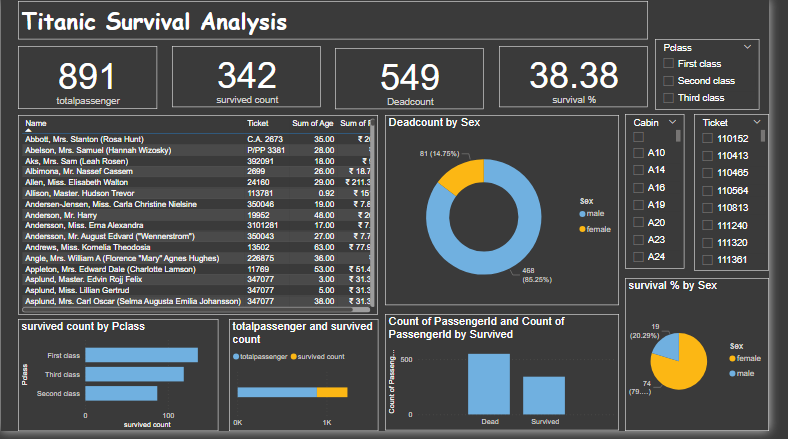

This screenshot's page, from the dashboard's own definition file:
{"tool":"powerbi","page":{"name":"Page 1","canvas":[1280,720],"ordinal":0},"visuals":[{"type":"card","fields":{"Values":["Titanic-Dataset.totalpassenger"]},"box":[28.3,78.3,231.7,105],"z":0},{"type":"card","fields":{"Values":["Titanic-Dataset.survived count"]},"box":[284.4,78.3,248.3,101.7],"z":1000},{"type":"card","fields":{"Values":["Titanic-Dataset.survival %"]},"box":[830,78.3,248.3,101.7],"z":2000},{"type":"card","fields":{"Values":["Titanic-Dataset.Deadcount"]},"box":[557.2,81.7,248.3,101.7],"z":3000},{"type":"pieChart","fields":{"Y":["Titanic-Dataset.survival %"],"Series":["Titanic-Dataset.Sex"]},"box":[1039.7,465.1,240.5,254.9],"z":4000},{"type":"tableEx","fields":{"Values":["Titanic-Dataset.Name","Titanic-Dataset.Ticket","Titanic-Dataset.Age","Titanic-Dataset.Fare"]},"box":[28.8,193,600.5,332.6],"z":5000},{"type":"slicer","fields":{"Values":["Titanic-Dataset.Pclass"]},"box":[1090.1,66.2,174.2,118.1],"z":6000},{"type":"slicer","fields":{"Values":["Titanic-Dataset.Cabin"]},"box":[1039.7,191.5,99.4,257.8],"z":7000},{"type":"slicer","fields":{"Values":["Titanic-Dataset.Ticket"]},"box":[1154.9,191.5,125.3,260.6],"z":8000},{"type":"barChart","fields":{"Category":["Titanic-Dataset.Pclass"],"Y":["Titanic-Dataset.survived count"]},"box":[28.8,532.8,334.1,187.2],"z":8001},{"type":"barChart","fields":{"Y":["Titanic-Dataset.totalpassenger","Titanic-Dataset.survived count"]},"box":[380.2,532.8,249.1,187.2],"z":8002},{"type":"donutChart","fields":{"Y":["Titanic-Dataset.Deadcount"],"Category":["Titanic-Dataset.Sex"]},"box":[639.4,193,390.2,316.8],"z":8003},{"type":"columnChart","fields":{"Y":["Titanic-Dataset.PassengerId","Titanic-Dataset.PassengerId"],"Category":["Titanic-Dataset.Survived"]},"box":[639.4,525.6,390.2,194.4],"z":8004},{"type":"textbox","box":[28.3,2.8,1050.2,63.8],"z":8005}]}

Visuals, with their boxes in screenshot pixels (x1, y1, x2, y2), scaled from the page's 1280x720 canvas onto the 788x439 screenshot:
card - Titanic-Dataset.totalpassenger: 17/48/160/112
card - Titanic-Dataset.survived count: 175/48/328/110
card - Titanic-Dataset.survival %: 511/48/664/110
card - Titanic-Dataset.Deadcount: 343/50/496/112
pieChart - Titanic-Dataset.survival % x Titanic-Dataset.Sex: 640/284/787/438
tableEx - Titanic-Dataset.Name x Titanic-Dataset.Ticket: 18/118/387/320
slicer - Titanic-Dataset.Pclass: 671/40/778/112
slicer - Titanic-Dataset.Cabin: 640/117/701/274
slicer - Titanic-Dataset.Ticket: 711/117/787/276
barChart - Titanic-Dataset.Pclass x Titanic-Dataset.survived count: 18/325/223/438
barChart - Titanic-Dataset.totalpassenger x Titanic-Dataset.survived count: 234/325/387/438
donutChart - Titanic-Dataset.Deadcount x Titanic-Dataset.Sex: 394/118/634/311
columnChart - Titanic-Dataset.PassengerId x Titanic-Dataset.PassengerId: 394/320/634/438
textbox: 17/2/664/41
